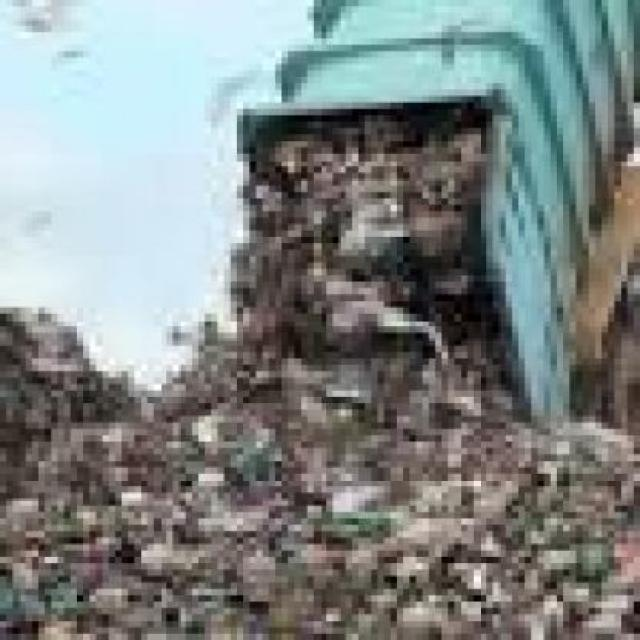garbage: (0, 148, 480, 634), (397, 377, 634, 633)
